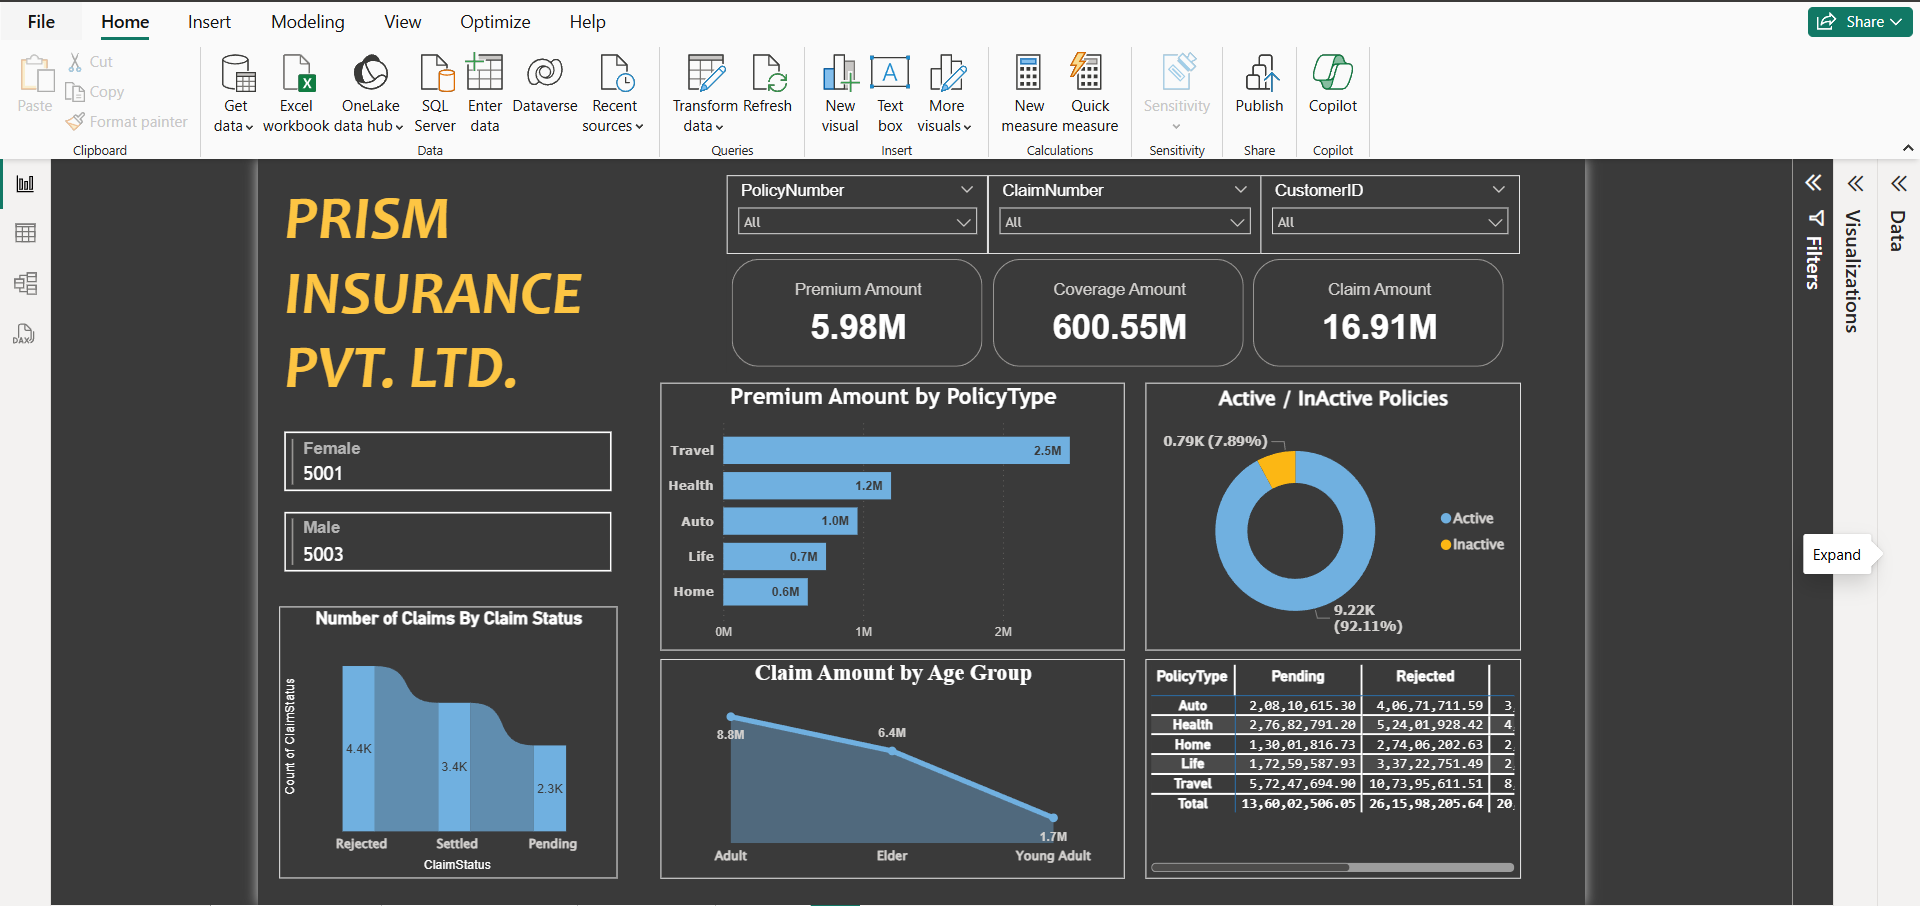

What the dashboard file says about the page in this screenshot:
{"tool":"powerbi","page":{"name":"Visualization","canvas":[1280,720],"ordinal":2},"visuals":[{"type":"slicer","fields":{"Values":["InsuranceData.PolicyNumber"]},"box":[452,16,252,76],"z":0},{"type":"slicer","fields":{"Values":["InsuranceData.ClaimNumber"]},"box":[704,16,264,76],"z":1000},{"type":"slicer","fields":{"Values":["InsuranceData.CustomerID"]},"box":[968,16,250,76],"z":2000},{"type":"textbox","box":[20,16,326,242],"z":3000},{"type":"cardVisual","fields":{"Data":["Sum(InsuranceData.PremiumAmount)"]},"box":[452,92,252,114],"z":4000},{"type":"cardVisual","fields":{"Data":["Sum(InsuranceData.CoverageAmount)"]},"box":[704,92,252,114],"z":5000},{"type":"cardVisual","fields":{"Data":["Sum(InsuranceData.ClaimAmount)"]},"box":[956,92,252,114],"z":6000},{"type":"multiRowCard","fields":{"Values":["InsuranceData.Gender","CountNonNull(InsuranceData.Gender)"]},"box":[20,258,326,174],"z":7000},{"type":"ribbonChart","title":"Number of Claims By Claim Status ","fields":{"Category":["InsuranceData.ClaimStatus"],"Y":["CountNonNull(InsuranceData.ClaimStatus)"]},"box":[20,432,326,262],"z":8000},{"type":"barChart","title":"Premium Amount by PolicyType","fields":{"Category":["InsuranceData.PolicyType"],"Y":["Sum(InsuranceData.PremiumAmount)"]},"box":[388,216,448,258],"z":9000},{"type":"lineChart","title":"Claim Amount by Age Group","fields":{"Category":["InsuranceData.Age Group"],"Y":["Sum(InsuranceData.ClaimAmount)"]},"box":[388,482,448,212],"z":10000},{"type":"donutChart","title":"Active / InActive Policies","fields":{"Category":["InsuranceData.Active/InActive"],"Y":["CountNonNull(InsuranceData.Active/InActive)"]},"box":[856,216,362,258],"z":11000},{"type":"pivotTable","fields":{"Values":["Sum(InsuranceData.CoverageAmount)"],"Rows":["InsuranceData.PolicyType"],"Columns":["InsuranceData.ClaimStatus"]},"box":[856,482,362,212],"z":12000}]}

Visuals, with their boxes on the page's 1280x720 design canvas (x1, y1, x2, y2). These are canvas units, not pixel positions in the 1920x906 screenshot, which may show the page scaled, cropped or inside an application window:
slicer - InsuranceData.PolicyNumber: x1=452, y1=16, x2=704, y2=92
slicer - InsuranceData.ClaimNumber: x1=704, y1=16, x2=968, y2=92
slicer - InsuranceData.CustomerID: x1=968, y1=16, x2=1218, y2=92
textbox: x1=20, y1=16, x2=346, y2=258
cardVisual - Sum(InsuranceData.PremiumAmount): x1=452, y1=92, x2=704, y2=206
cardVisual - Sum(InsuranceData.CoverageAmount): x1=704, y1=92, x2=956, y2=206
cardVisual - Sum(InsuranceData.ClaimAmount): x1=956, y1=92, x2=1208, y2=206
multiRowCard - InsuranceData.Gender x CountNonNull(InsuranceData.Gender): x1=20, y1=258, x2=346, y2=432
"Number of Claims By Claim Status " ribbonChart: x1=20, y1=432, x2=346, y2=694
"Premium Amount by PolicyType" barChart: x1=388, y1=216, x2=836, y2=474
"Claim Amount by Age Group" lineChart: x1=388, y1=482, x2=836, y2=694
"Active / InActive Policies" donutChart: x1=856, y1=216, x2=1218, y2=474
pivotTable - Sum(InsuranceData.CoverageAmount) x InsuranceData.PolicyType: x1=856, y1=482, x2=1218, y2=694
